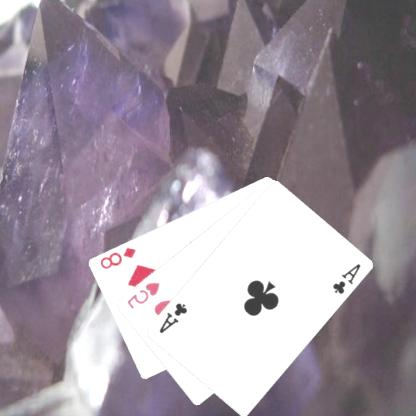5H: (126, 279, 162, 311)
8D: (99, 244, 139, 271)
AC: (332, 260, 364, 296), (158, 300, 190, 335)
